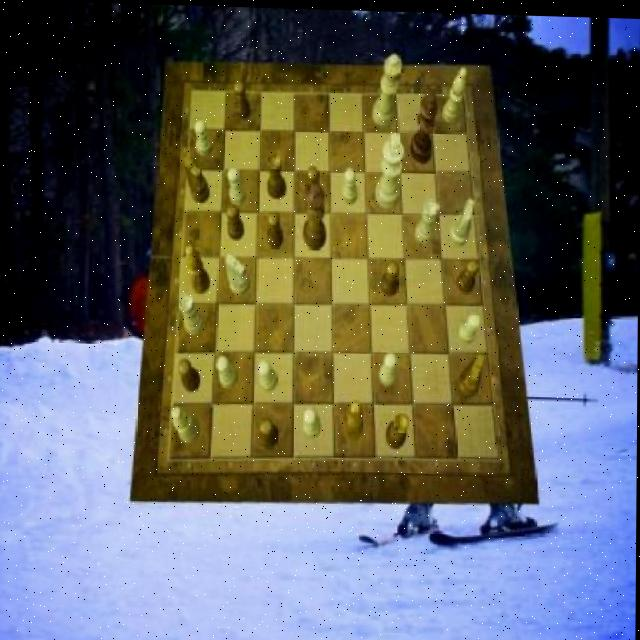bishop: (186, 243, 211, 294), (343, 399, 365, 440)
black-bishop: (410, 85, 438, 162)
black-king: (183, 157, 211, 203), (458, 349, 485, 395)
black-knight: (179, 358, 202, 393), (457, 255, 479, 290), (227, 204, 246, 240), (235, 79, 252, 118), (260, 417, 281, 448), (382, 258, 399, 295), (268, 210, 285, 247), (305, 164, 321, 202)
black-pawn: (303, 181, 326, 249)
black-queen: (266, 151, 287, 197), (387, 409, 410, 447)
black-rook: (443, 63, 467, 121), (173, 406, 202, 444)
white-bishop: (376, 129, 405, 207)
white-king: (451, 195, 476, 245), (226, 253, 251, 295)
white-knight: (216, 354, 239, 389), (228, 167, 248, 205), (458, 310, 481, 343), (195, 119, 214, 155), (259, 358, 278, 391), (380, 351, 397, 386), (342, 166, 358, 203), (304, 405, 321, 438)
white-pawn: (372, 50, 402, 125)
white-queen: (180, 292, 207, 335), (416, 197, 439, 243)
